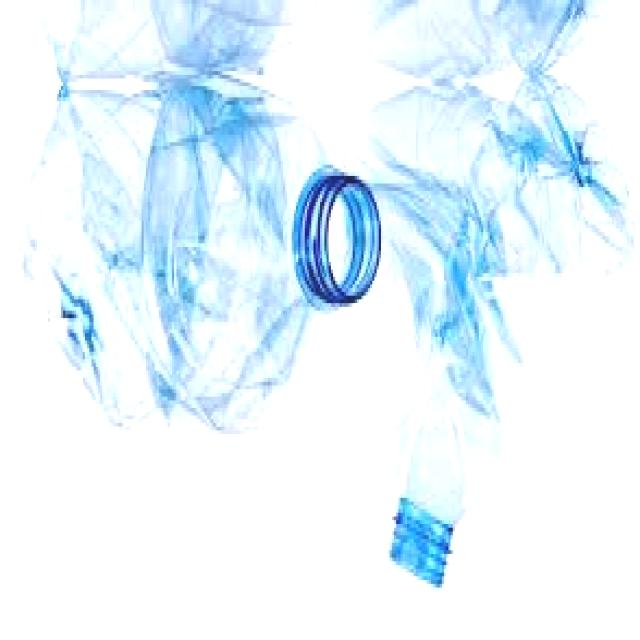bottle: (346, 81, 638, 590), (14, 62, 379, 450)
